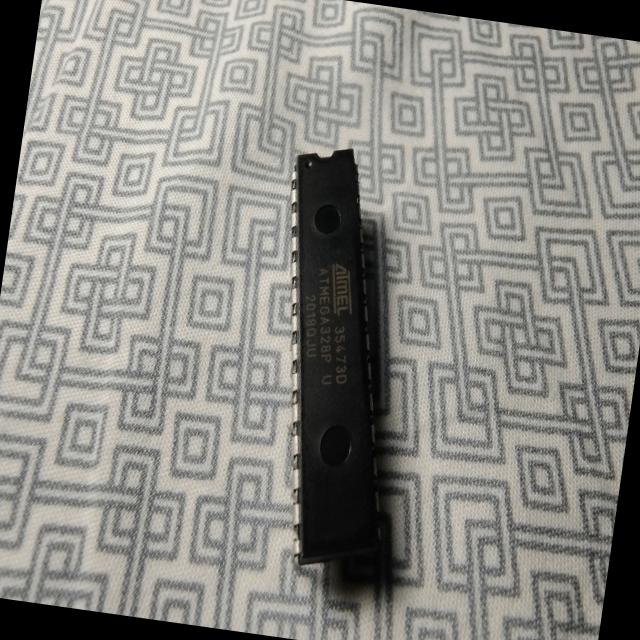atmega: (234, 138, 444, 586)
